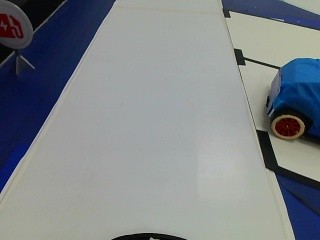battery: (0, 0, 37, 51)
car: (260, 56, 318, 145)
